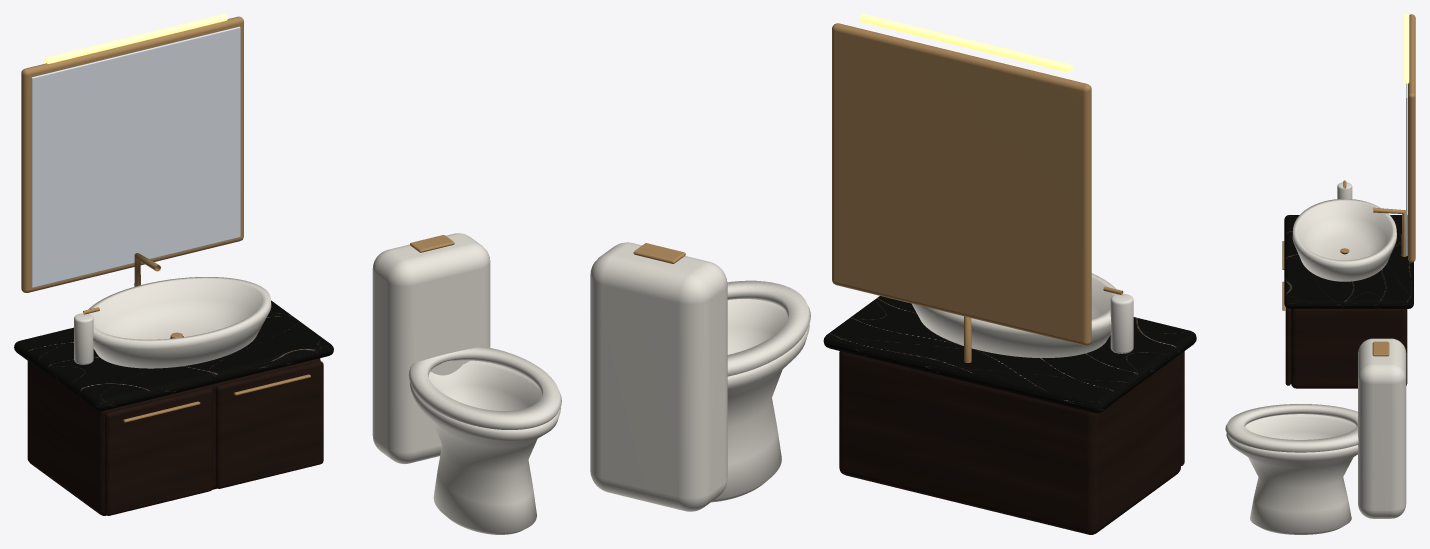
File: ceramic-bathroom-suite.glb
3 renders of one model, left to right at view 1: azimuth 30°, elevation 25°; view 2: azimuth 150°, elevation 25°; view 3: azimuth 270°, elevation 25°, orthographic. The views are drawn at different scales.
Visible parts, largest first — view 1: Vanity mirror, Concealed cistern cover, Toilet sculpted pedestal, Vessel basin ceramic, Stone vanity top, Vanity door.001, Vanity door, Wall hung vanity, Brass mirror frame, Soft close toilet seat ring, Mirror light rail, Soap dispenser; view 2: Brass mirror frame, Wall hung vanity, Concealed cistern cover, Stone vanity top, Toilet sculpted pedestal, Vessel basin ceramic, Soft close toilet seat ring, Mirror light rail, Soap dispenser; view 3: Toilet sculpted pedestal, Concealed cistern cover, Wall hung vanity, Vessel basin ceramic, Stone vanity top, Soft close toilet seat ring, Brass mirror frame, Mirror light rail, Vanity door.001, Vanity faucet, Vanity mirror, Flush actuator (+1 smaller).
Part boxes in pixels (x1=…): Vanity mirror: x1=31, y1=26, x2=240, y2=287; Concealed cistern cover: x1=372, y1=233, x2=490, y2=463; Toilet sculpted pedestal: x1=409, y1=360, x2=560, y2=534; Vessel basin ceramic: x1=88, y1=277, x2=271, y2=368; Stone vanity top: x1=14, y1=300, x2=333, y2=411; Vanity door.001: x1=215, y1=361, x2=323, y2=488; Vanity door: x1=105, y1=388, x2=212, y2=515; Wall hung vanity: x1=27, y1=358, x2=320, y2=515; Brass mirror frame: x1=21, y1=16, x2=243, y2=292; Soft close toilet seat ring: x1=408, y1=346, x2=561, y2=429; Mirror light rail: x1=44, y1=14, x2=227, y2=63; Soap dispenser: x1=74, y1=313, x2=93, y2=364; Brass mirror frame: x1=832, y1=23, x2=1091, y2=345; Wall hung vanity: x1=839, y1=351, x2=1180, y2=534; Concealed cistern cover: x1=590, y1=242, x2=727, y2=511; Stone vanity top: x1=823, y1=296, x2=1196, y2=413; Toilet sculpted pedestal: x1=711, y1=299, x2=809, y2=502; Vessel basin ceramic: x1=912, y1=273, x2=1116, y2=357; Soft close toilet seat ring: x1=727, y1=280, x2=810, y2=376; Mirror light rail: x1=859, y1=14, x2=1072, y2=72; Soap dispenser: x1=1110, y1=293, x2=1133, y2=353; Toilet sculpted pedestal: x1=1226, y1=414, x2=1358, y2=534; Concealed cistern cover: x1=1358, y1=338, x2=1406, y2=518; Wall hung vanity: x1=1291, y1=309, x2=1407, y2=388; Vessel basin ceramic: x1=1292, y1=199, x2=1396, y2=281; Stone vanity top: x1=1284, y1=215, x2=1413, y2=308; Soft close toilet seat ring: x1=1225, y1=404, x2=1358, y2=452; Brass mirror frame: x1=1408, y1=14, x2=1415, y2=262; Mirror light rail: x1=1403, y1=14, x2=1409, y2=83; Vanity door.001: x1=1285, y1=307, x2=1290, y2=385; Vanity faucet: x1=1373, y1=207, x2=1406, y2=256; Vanity mirror: x1=1406, y1=83, x2=1407, y2=256; Flush actuator: x1=1372, y1=341, x2=1389, y2=356.
Bounding box in the file's own units: 1.82 × 1.87 × 0.866.
6 materials, 2 textured.
